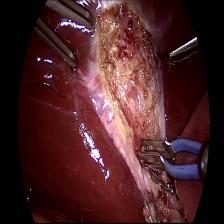Bipolar: (136, 135, 206, 182)
Grasper: (32, 0, 94, 75)
